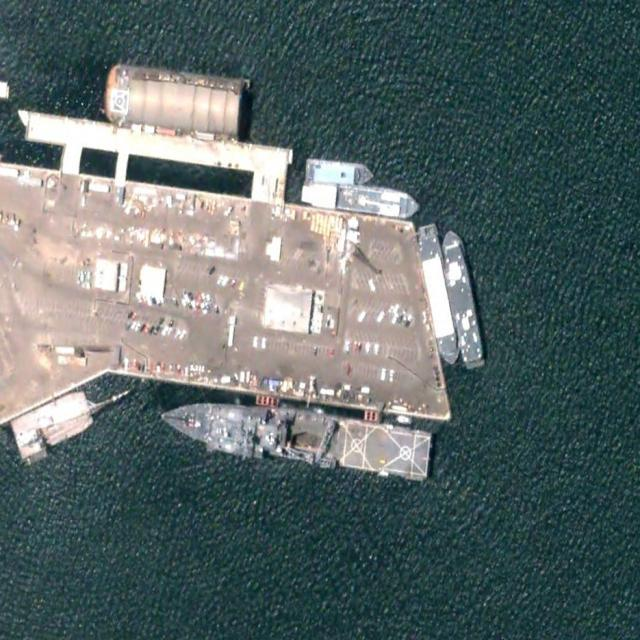Landing: (157, 384, 433, 484)
Other Ship: (415, 223, 462, 367), (439, 227, 484, 363), (300, 181, 424, 223), (309, 158, 374, 186)
